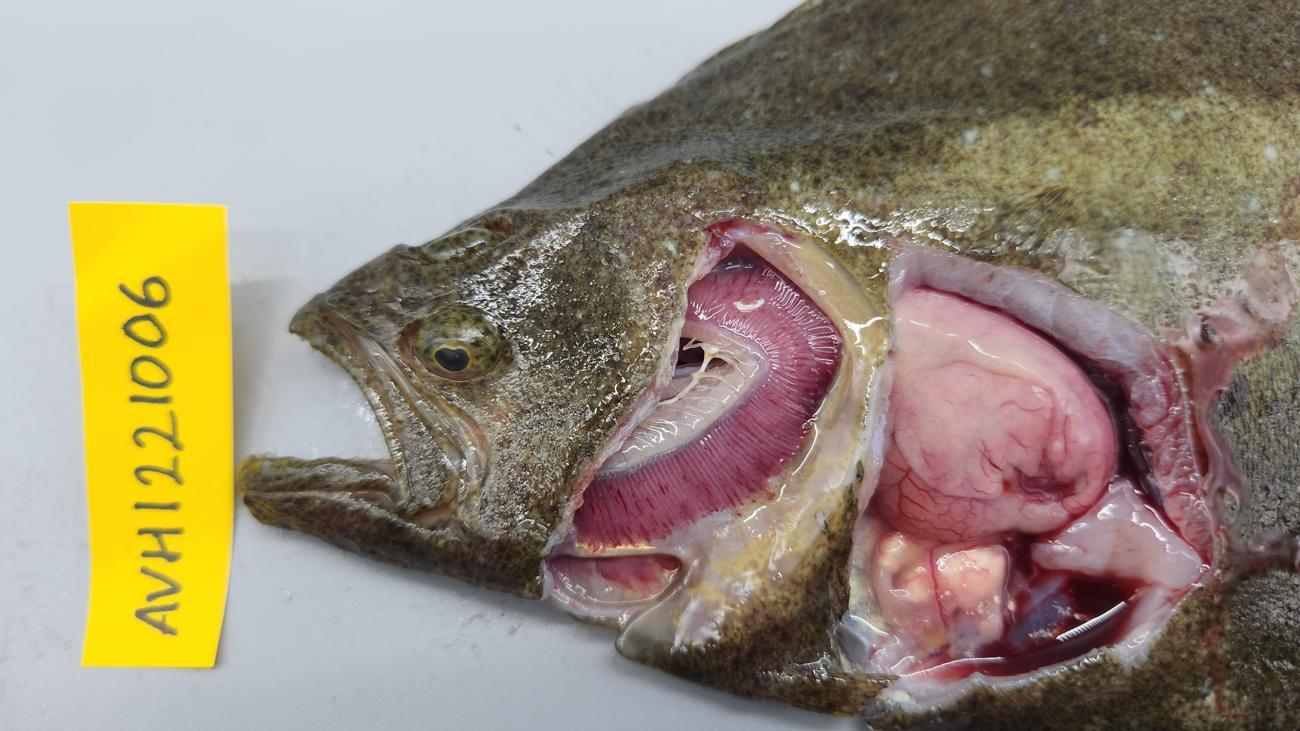VIGIP: (573, 265, 844, 548)
VILIC: (890, 400, 961, 483)
VILII: (984, 371, 1109, 498)
